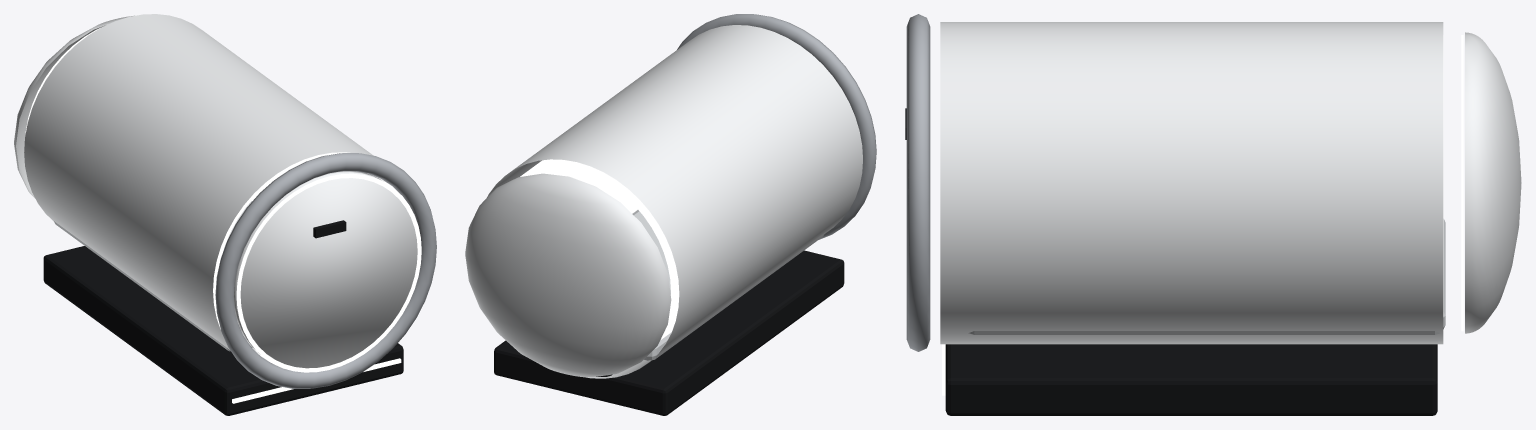
File: pod_closed.glb
3 views of the same model, side by side, from view 1: azimuth 30°, elevation 25°; view 2: azimuth 150°, elevation 25°; view 3: azimuth 270°, elevation 25° (orthographic). The views are drawn at different scales.
Visible parts, largest first — view 1: pod; view 2: pod; view 3: pod.
Part boxes in pixels (left/top/right/bottom): pod: left=14, top=14, right=436, bottom=415; pod: left=465, top=14, right=876, bottom=415; pod: left=905, top=14, right=1521, bottom=415.
Bounding box in the file's own units: 1.3 × 1.4 × 2.37.
Materials: 1 (1 with a texture image).
